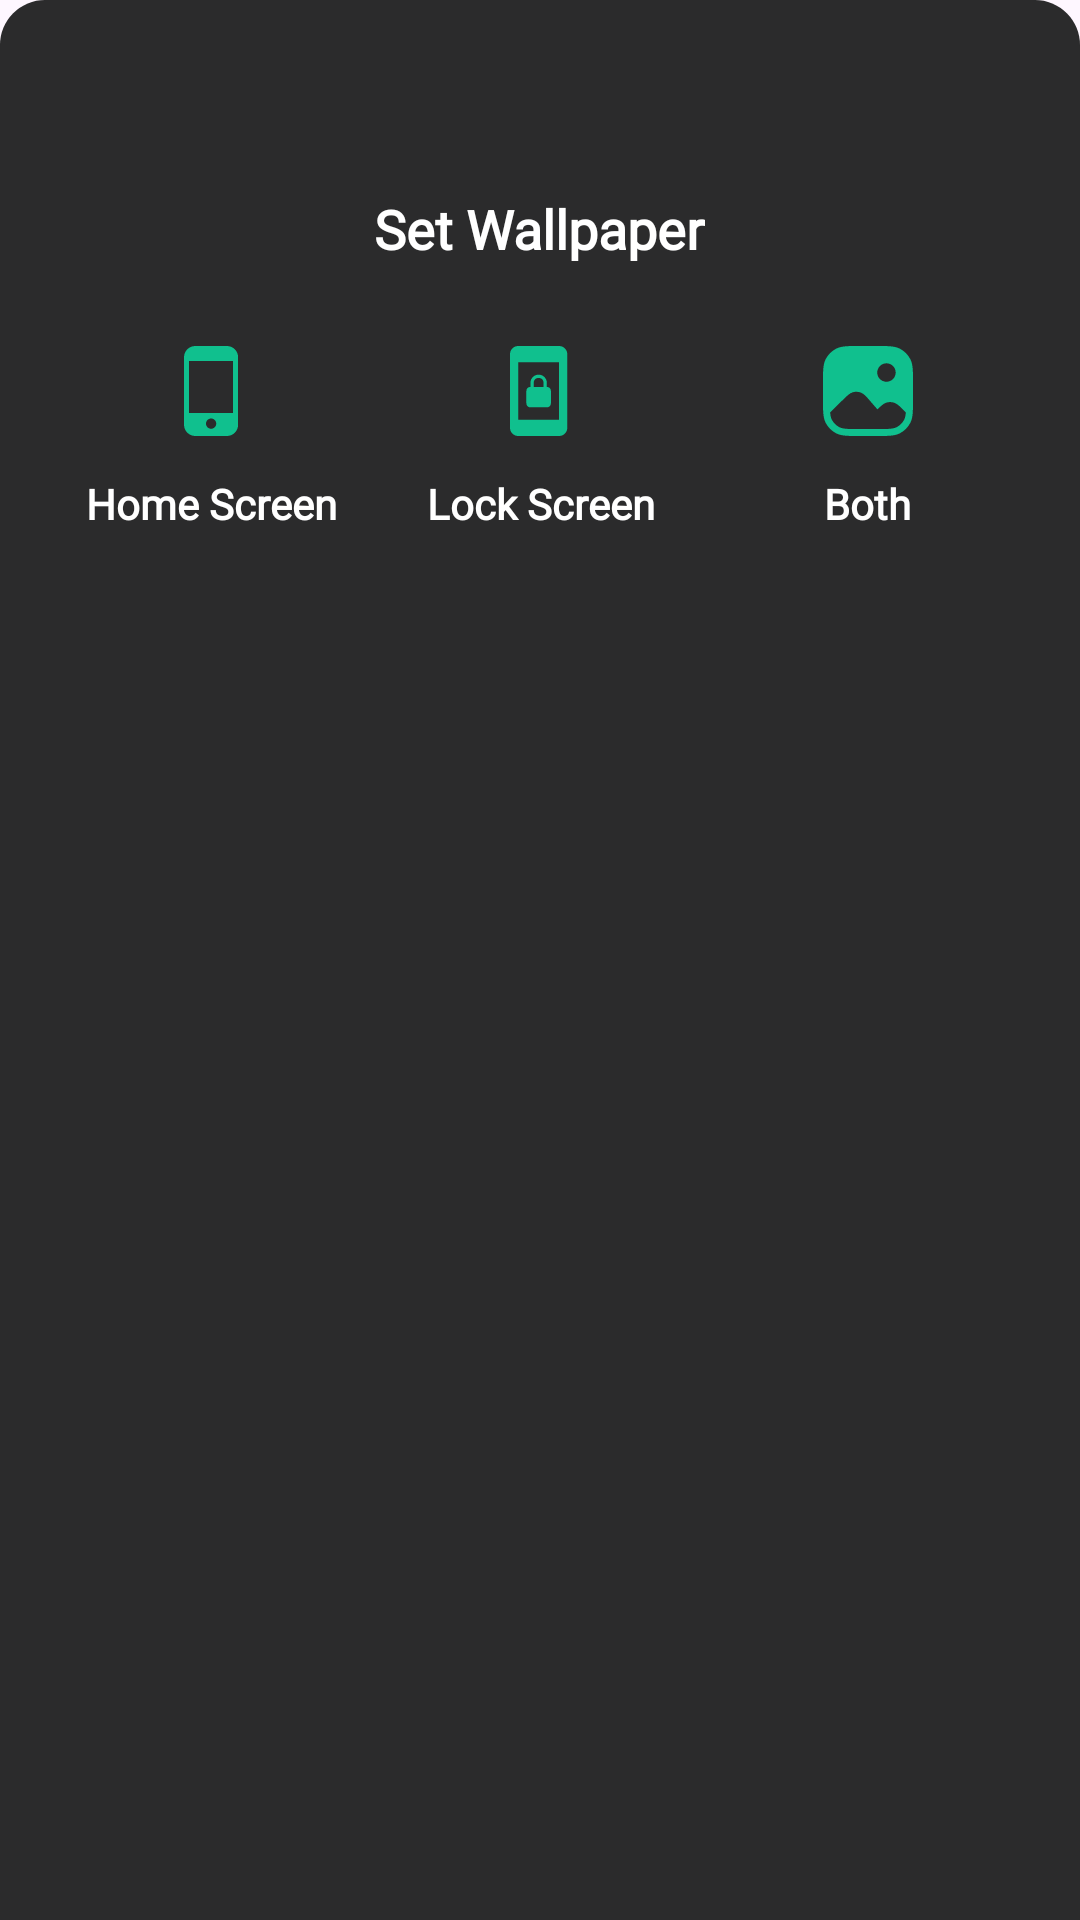

Icon click points for this 1080px x 1920px phone screenshot, format (x=x, y=y):
phone: (x=211, y=391)
